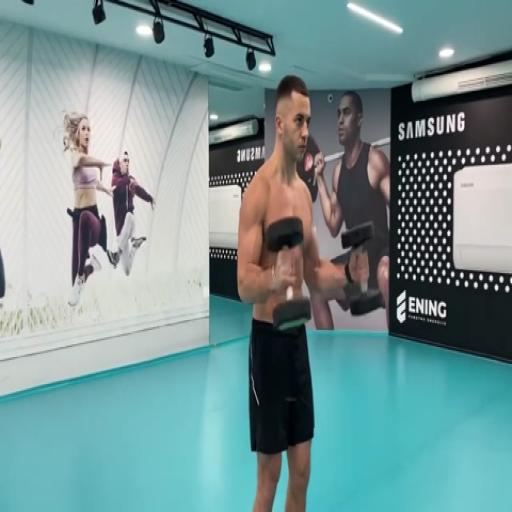exercise: (234, 72, 372, 510), (310, 88, 392, 333), (59, 110, 118, 310), (104, 148, 158, 280)
